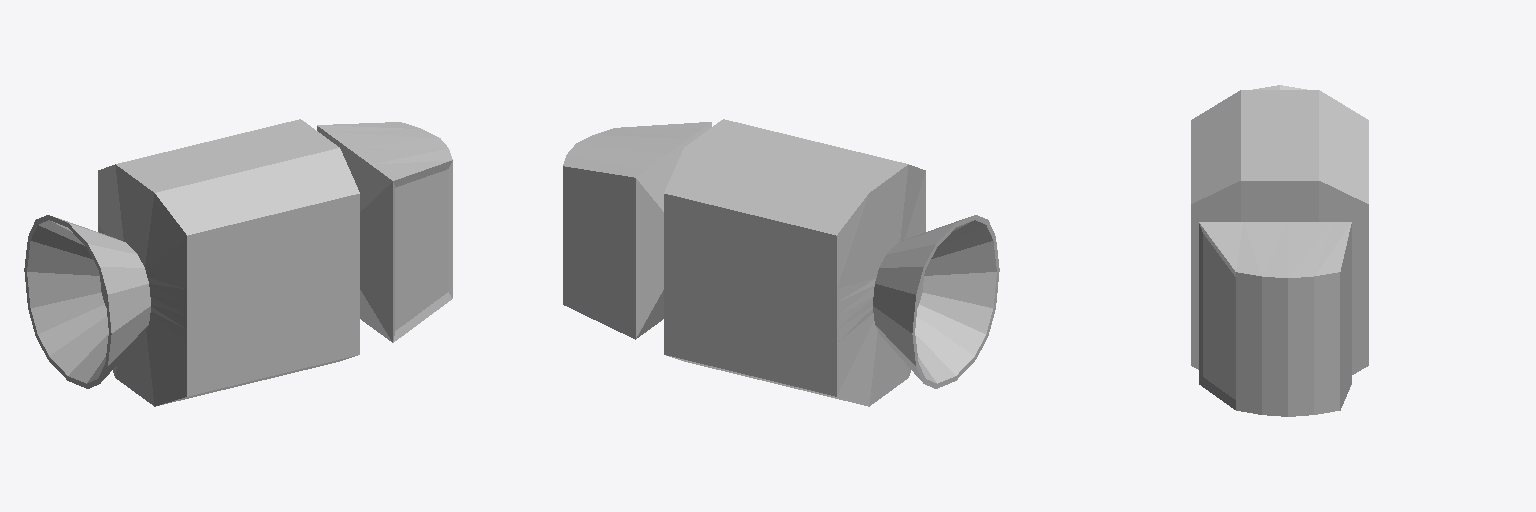
Rendered from constructor.obj.
3 renders of one model, left to right at view 1: azimuth 30°, elevation 25°; view 2: azimuth 150°, elevation 25°; view 3: azimuth 270°, elevation 25°, orthographic.
Visible parts, largest first — view 1: Cube; view 2: Cube; view 3: Cube.
Part boxes in pixels (x1,y1,x2,y2): Cube: (24,119,452,406); Cube: (563,119,999,406); Cube: (1191,85,1368,416).
Bounding box in the file's own units: 4.88 × 2.65 × 2.